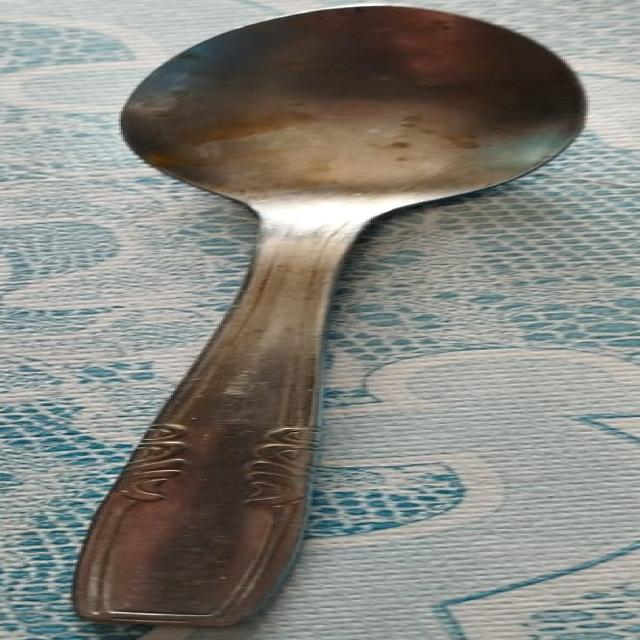Anorganik: (80, 2, 605, 628)
